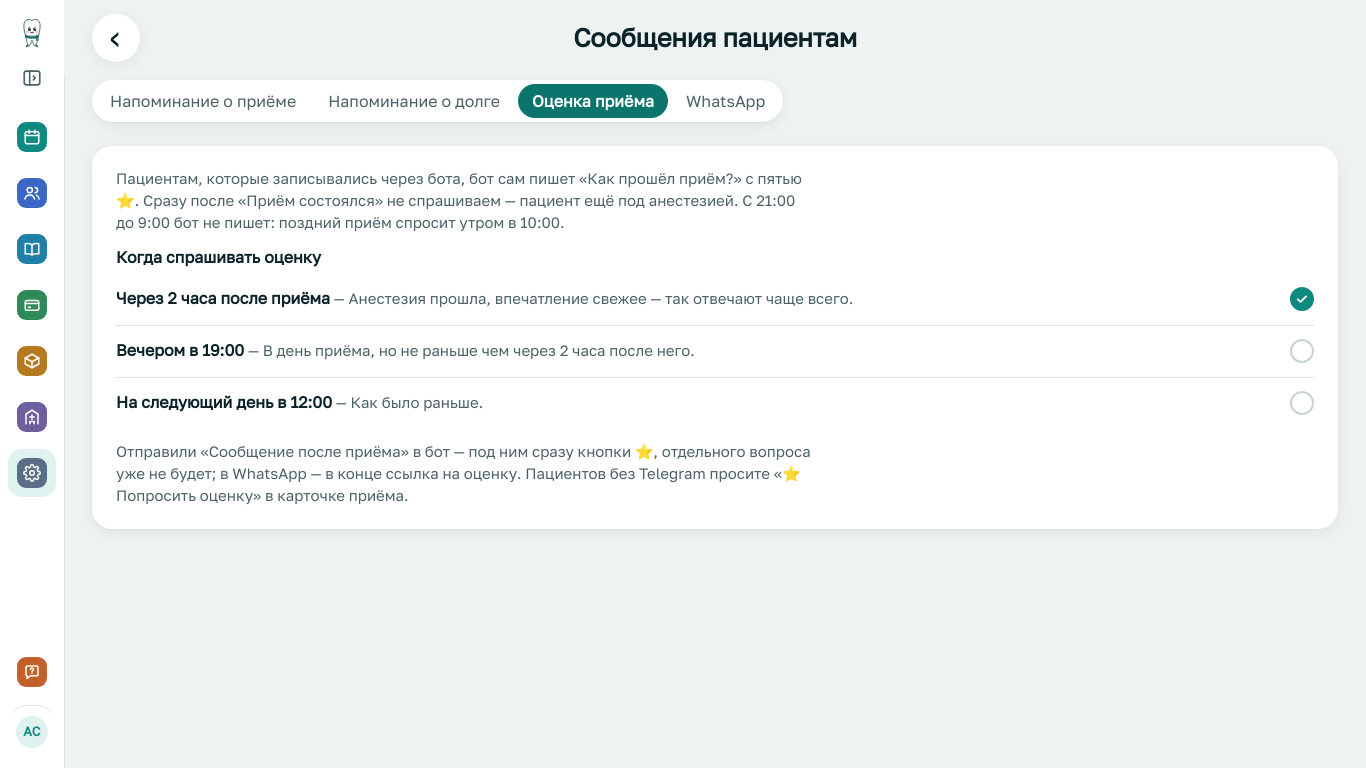
Test case: «Оценка приёма»: по умолчанию — через 2 часа; выбор сохраняется сразу
This screenshot has width=1366, height=768.
Expected: the element named "Когда спрашивать оценку" shows "С 21:00 до 9:00 бот не пишет", [116, 169, 802, 230]
Expected: the radio button labelled "Через 2 часа после приёма" is checked, [1290, 287, 1314, 311]
Click the radio button labelled "На следующий день в 12:00 — Как было раньше.": (1302, 403) [1290, 391, 1314, 415]
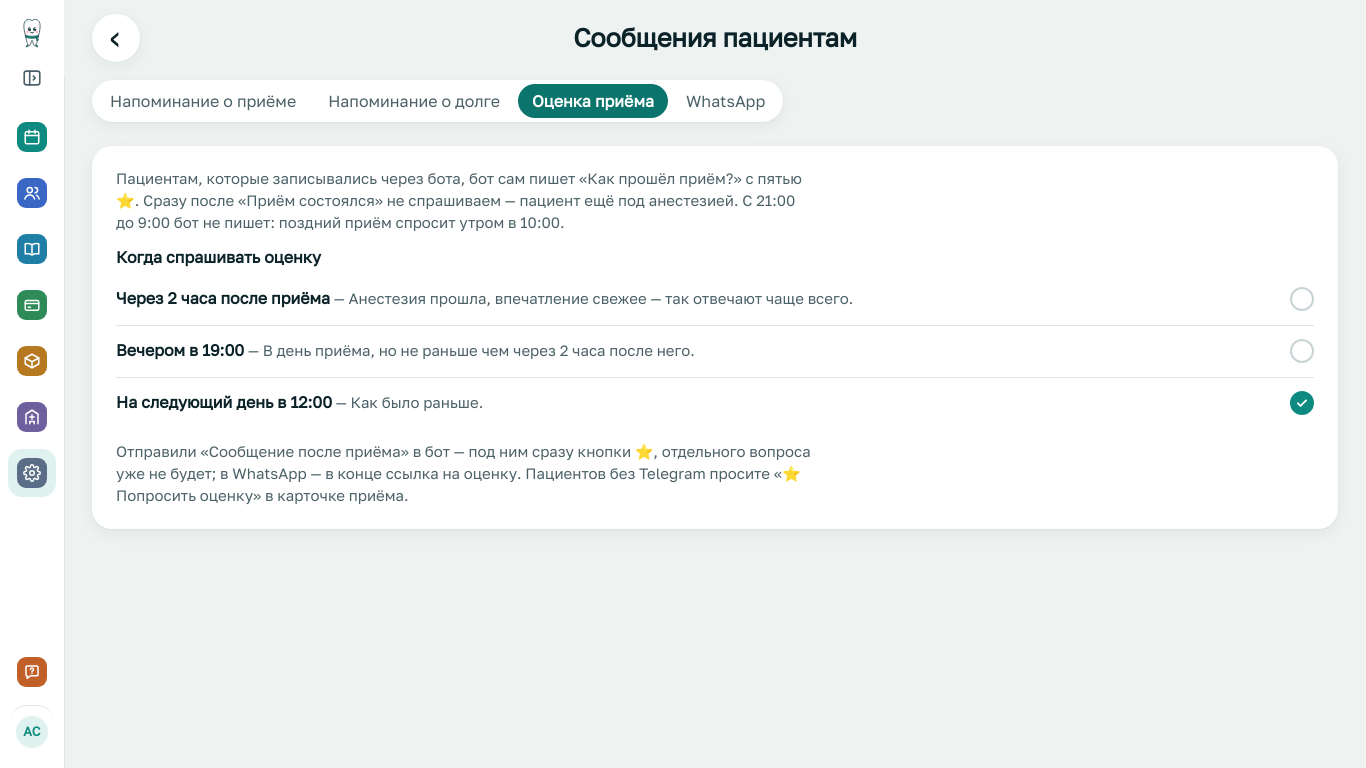
Now the radio button labelled "На следующий день в 12:00 — Как было раньше." is checked, box [1290, 391, 1314, 415]
Now the radio button labelled "Через 2 часа после приёма" is not checked, box [1290, 287, 1314, 311]
